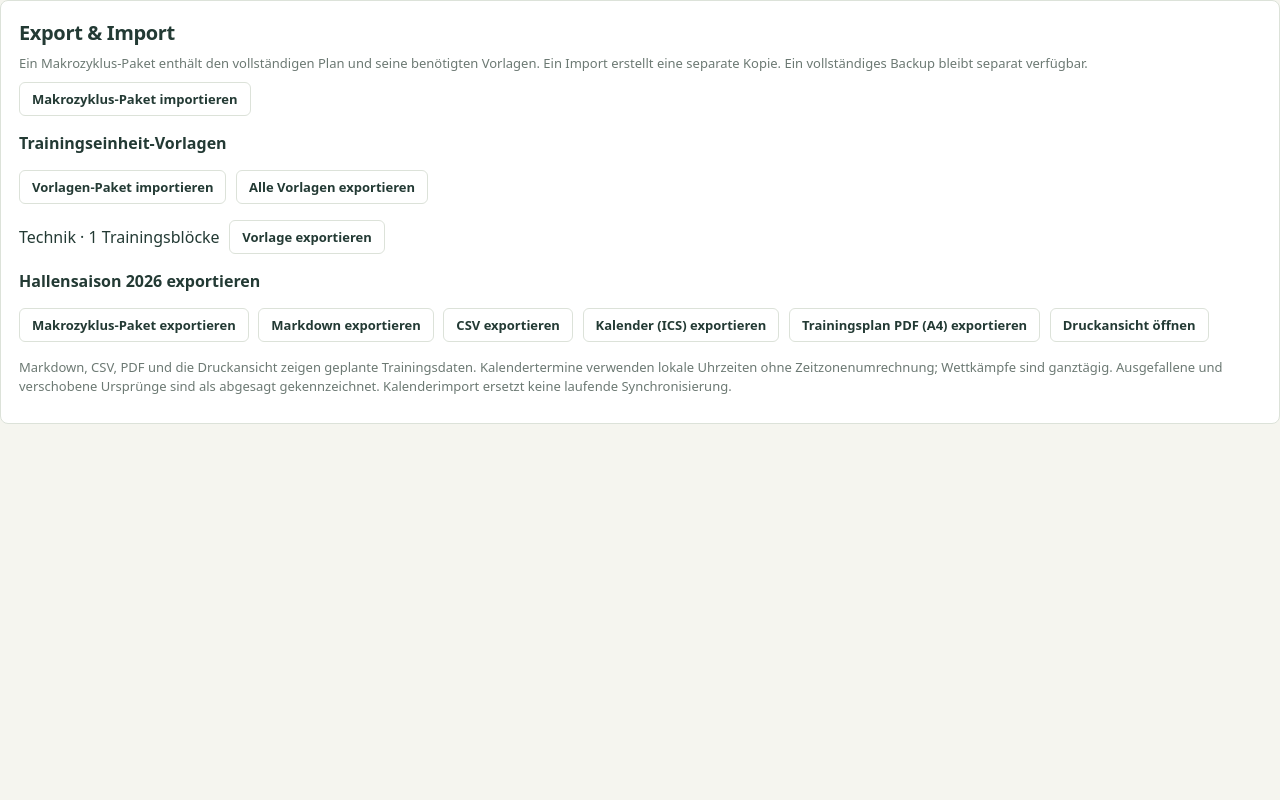
export/import rendered acceptance › preserves a failed import for retry without importing a second copy
Step 1. Click the button "Makrozyklus-Paket importieren" → (135, 98), box [19,82,250,116]
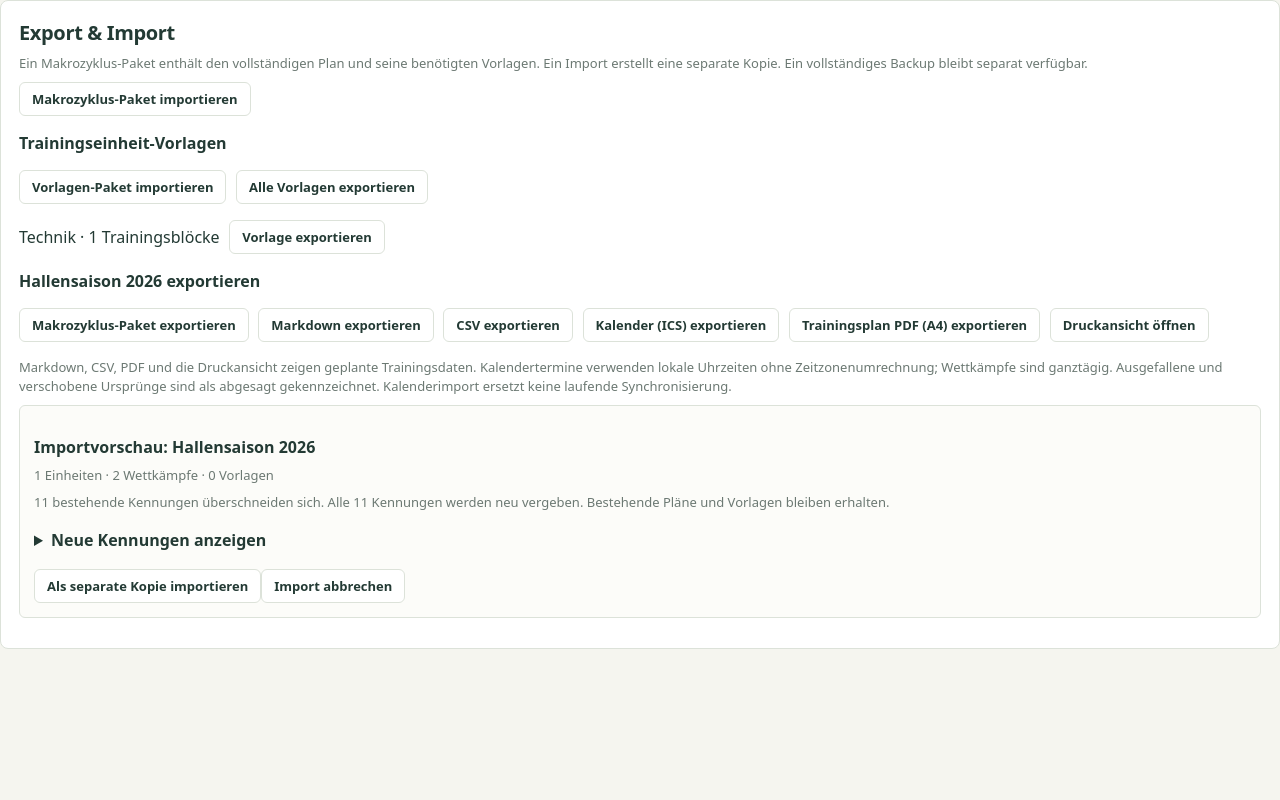
Now the button "Als separate Kopie importieren" is shown
Step 2. Click the button "Als separate Kopie importieren" → (148, 586), box [34,568,261,602]
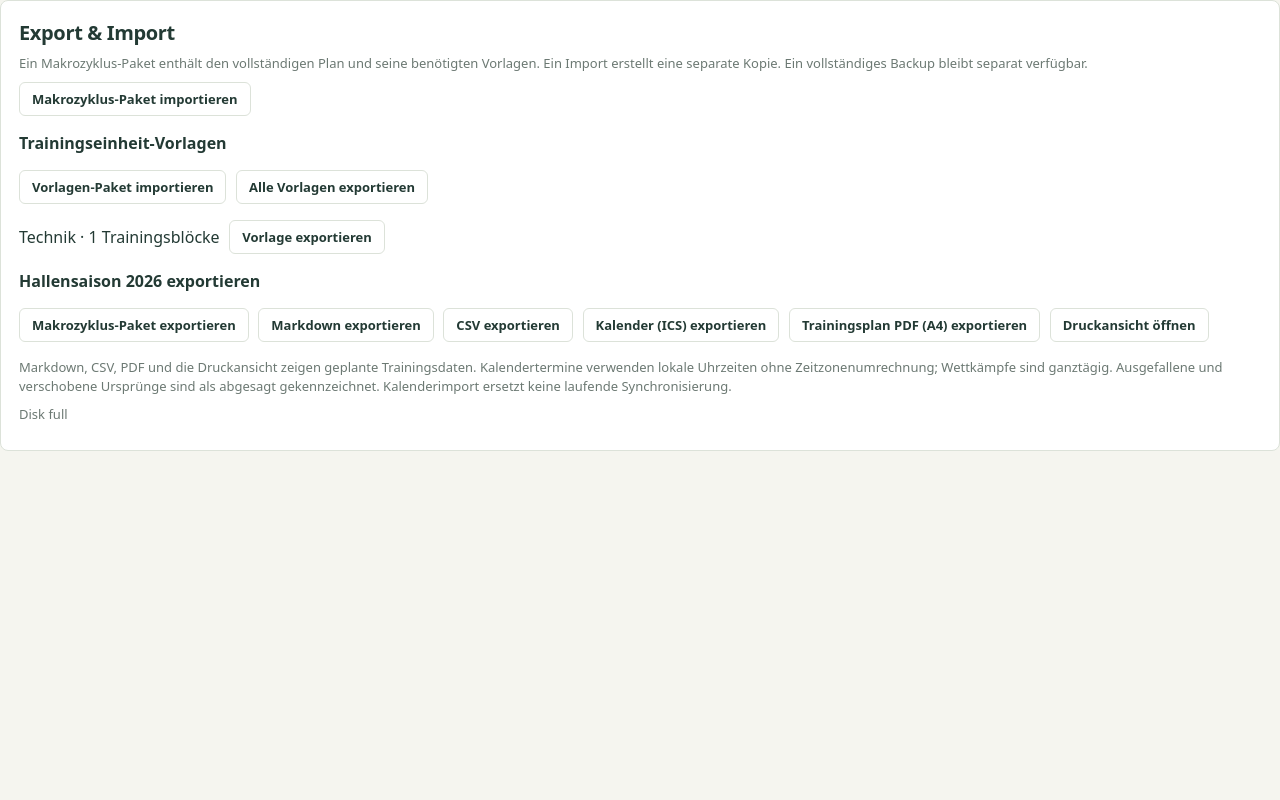
Now the text "Disk full" is shown, box [19,404,68,422]
